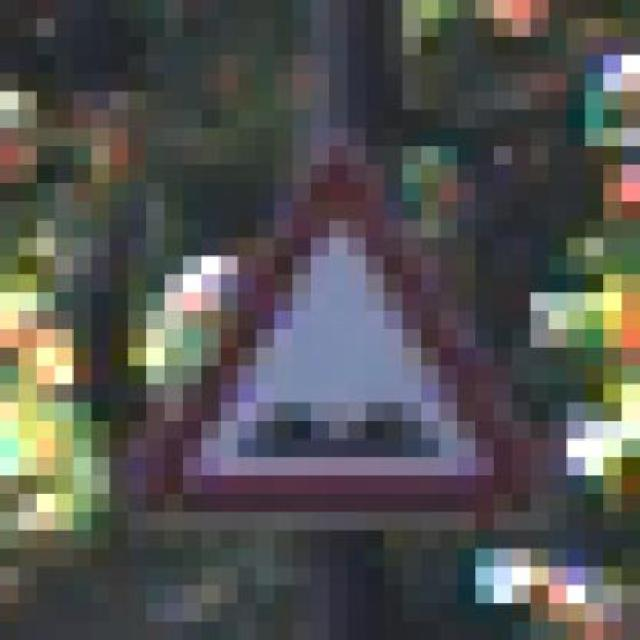Uneven Road: (110, 109, 548, 531)
